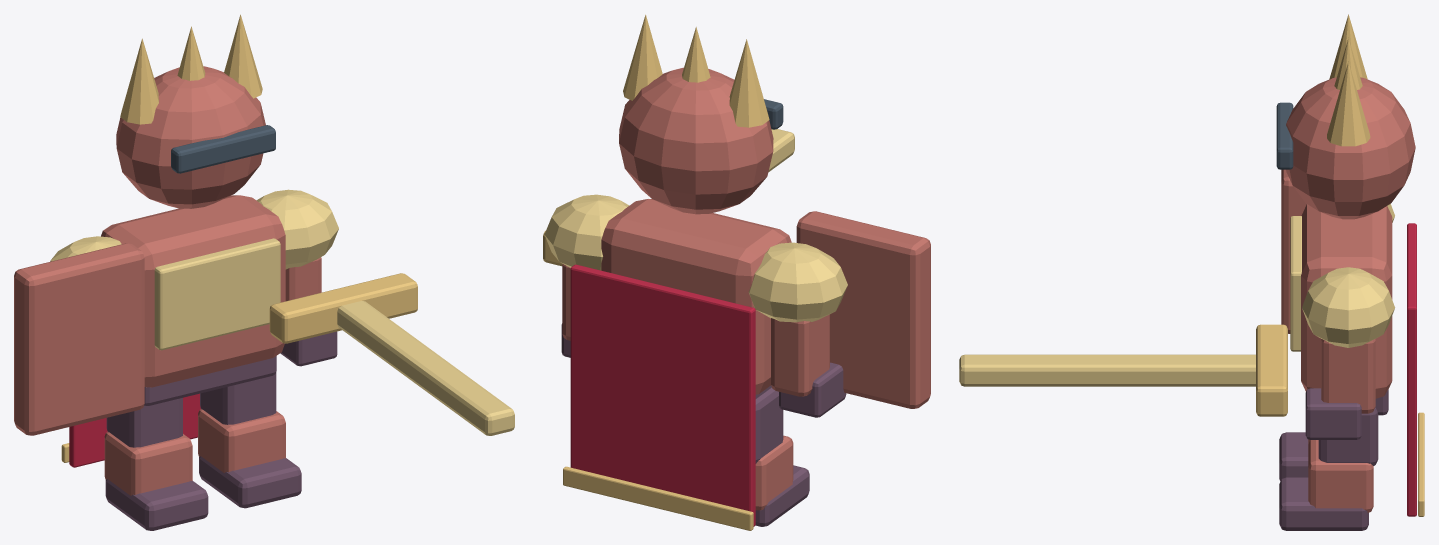
File: enemy_captain.glb
3 renders of one model, left to right at view 1: azimuth 30°, elevation 25°; view 2: azimuth 150°, elevation 25°; view 3: azimuth 270°, elevation 25°, orthographic. The views are drawn at different scales.
Visible parts, largest first — view 1: CaptainShield, Chest, Helm, Breastplate, CaptainGreatsword, CaptainCrossguard, Greave, Greave.001, Shoulder.001, Boot, Boot.001, Visor (+10 smaller); view 2: RoyalCape, CaptainShield, Helm, Chest, Shoulder, Arm, Shoulder.001, RoyalCapeTrim, CaptainCrown, Greave, Gauntlet, Thigh (+5 smaller); view 3: Helm, CaptainGreatsword, Chest, Shoulder.001, Arm.001, Greave.001, Boot.001, CaptainCrossguard, RoyalCape, Gauntlet.001, CaptainCrown.002, Thigh.001 (+7 smaller).
Boxes of the visible parts, x1=… form: CaptainShield: x1=14, y1=243, x2=144, y2=435; Chest: x1=101, y1=195, x2=285, y2=387; Helm: x1=116, y1=66, x2=265, y2=208; Breastplate: x1=154, y1=238, x2=280, y2=350; CaptainGreatsword: x1=337, y1=301, x2=514, y2=435; CaptainCrossguard: x1=269, y1=273, x2=417, y2=343; Greave: x1=104, y1=432, x2=192, y2=495; Greave.001: x1=198, y1=409, x2=285, y2=472; Shoulder.001: x1=256, y1=189, x2=338, y2=269; Boot: x1=105, y1=479, x2=208, y2=530; Boot.001: x1=199, y1=456, x2=301, y2=508; Visor: x1=171, y1=125, x2=275, y2=173; RoyalCape: x1=570, y1=264, x2=755, y2=526; CaptainShield: x1=796, y1=211, x2=930, y2=408; Helm: x1=619, y1=67, x2=773, y2=214; Chest: x1=601, y1=199, x2=791, y2=394; Shoulder: x1=748, y1=242, x2=847, y2=322; Arm: x1=771, y1=314, x2=829, y2=396; Shoulder.001: x1=544, y1=194, x2=629, y2=270; RoyalCapeTrim: x1=563, y1=466, x2=753, y2=530; CaptainCrown: x1=729, y1=39, x2=769, y2=127; Greave: x1=755, y1=435, x2=793, y2=510; Gauntlet: x1=779, y1=362, x2=846, y2=417; Thigh: x1=755, y1=387, x2=783, y2=463; Helm: x1=1286, y1=77, x2=1415, y2=219; CaptainGreatsword: x1=959, y1=354, x2=1255, y2=386; Chest: x1=1301, y1=204, x2=1392, y2=398; Shoulder.001: x1=1302, y1=267, x2=1394, y2=347; Arm.001: x1=1321, y1=339, x2=1375, y2=413; Greave.001: x1=1308, y1=440, x2=1373, y2=512; Boot.001: x1=1279, y1=477, x2=1368, y2=530; CaptainCrossguard: x1=1256, y1=324, x2=1287, y2=416; RoyalCape: x1=1407, y1=223, x2=1416, y2=516; Gauntlet.001: x1=1305, y1=388, x2=1361, y2=439; CaptainCrown.002: x1=1327, y1=61, x2=1370, y2=146; Thigh.001: x1=1318, y1=407, x2=1378, y2=465.
Bounding box in the file's own units: 2.31 × 2.71 × 2.49.
